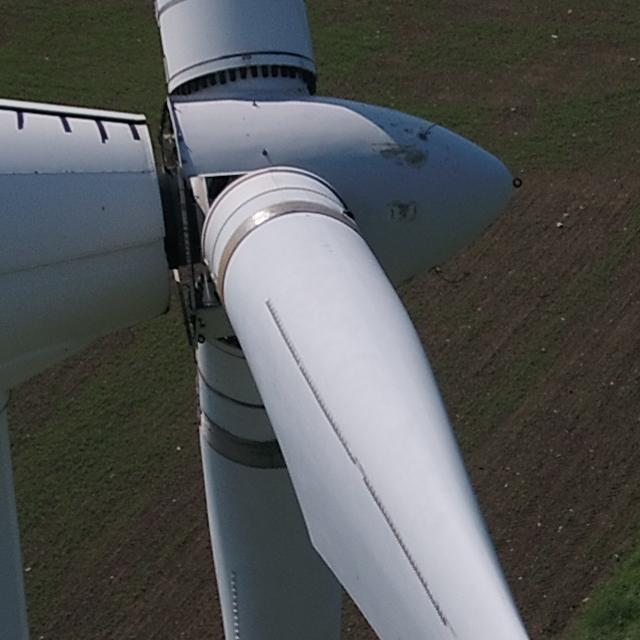damage: (302, 382, 374, 483), (260, 295, 326, 390), (392, 535, 449, 627), (359, 475, 406, 540), (224, 566, 245, 635), (379, 142, 430, 170), (395, 205, 412, 222)
